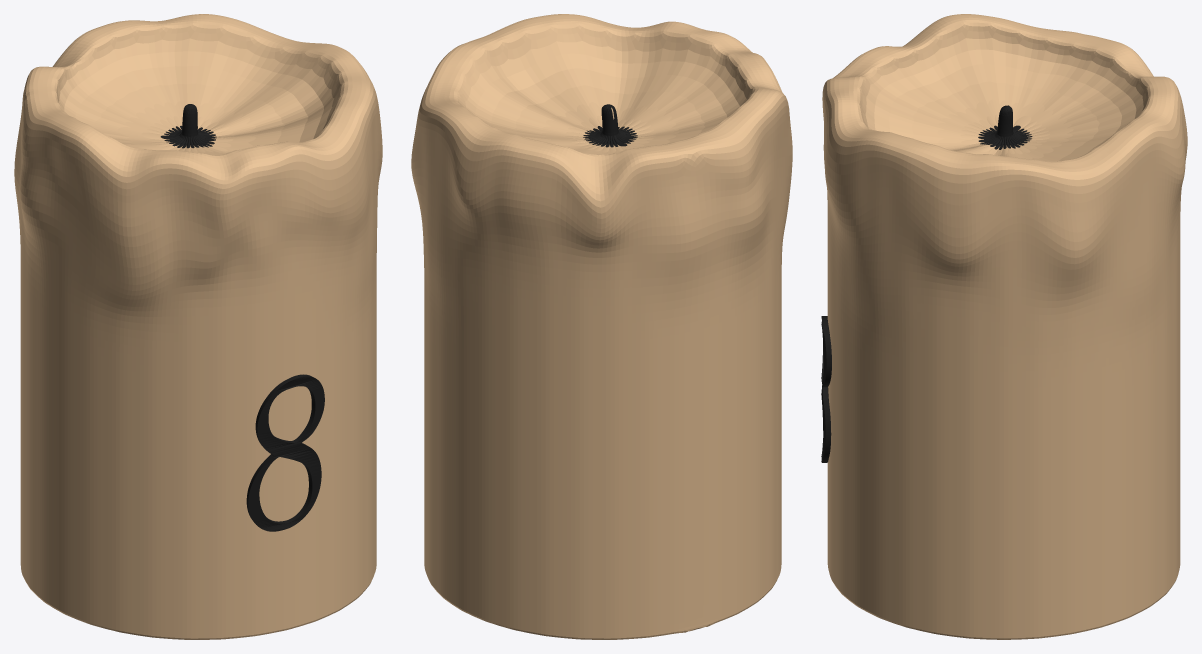
File: Candle-8.fbx
3 renders of one model, left to right at view 1: azimuth 30°, elevation 25°; view 2: azimuth 150°, elevation 25°; view 3: azimuth 270°, elevation 25°, orthographic.
Parts seen in each view (by area): view 1: Candle, Text; view 2: Candle; view 3: Candle, Text.
Boxes of the visible parts, bbox=[...] form: Candle: bbox=[14, 14, 382, 639]; Text: bbox=[246, 374, 324, 531]; Candle: bbox=[411, 14, 792, 639]; Candle: bbox=[822, 14, 1187, 639]; Text: bbox=[821, 316, 831, 462].
Bounding box in the file's own units: 41.75 × 60.84 × 41.42.
